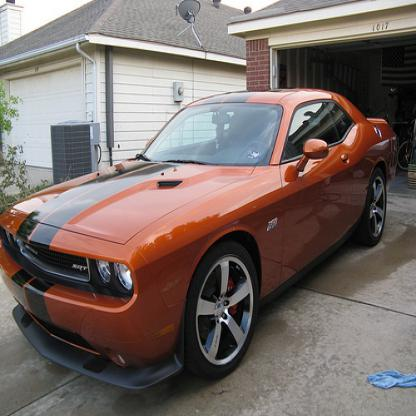Vehicle: (1, 88, 398, 398)
